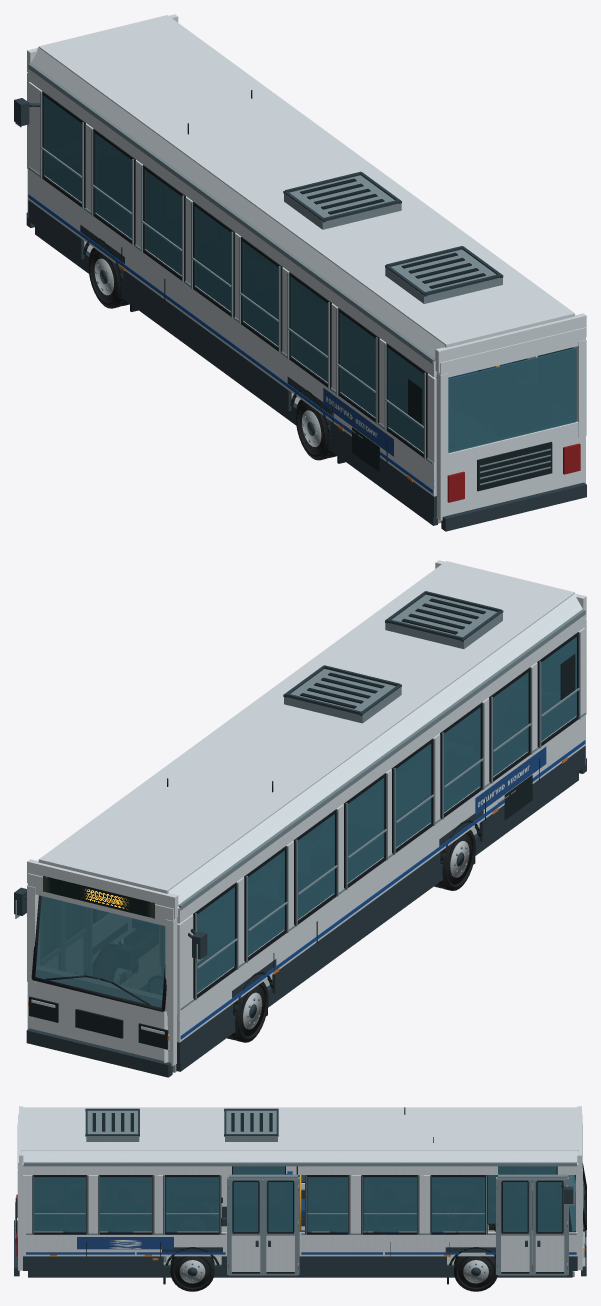
3 views of the same model, one above another, from view 1: azimuth 30°, elevation 25°; view 2: azimuth 150°, elevation 25°; view 3: azimuth 270°, elevation 25° (orthographic). The views are drawn at different scales.
Visible parts, largest first — view 1: VIS_Roof_Shell_body_region, VIS_Side_Window_Glazing_tinted_glass, VIS_Body_Exterior_Panels_body_region, VIS_Front_And_Rear_Structure_body_region, VIS_Rear_Glazing_tinted_glass, VIS_Lower_Skirt_lower_steel, VIS_Window_Seals_gasket, VIS_Rooftop_AC_Shell_aluminium, VIS_Window_Mullions_aluminium, VIS_Inner_Kick_Sill_lower_steel, VIS_Continuous_Roof_Cant_aluminium, VIS_Rear_Bumper_lower_steel (+9 smaller); view 2: VIS_Roof_Shell_body_region, VIS_Side_Window_Glazing_tinted_glass, VIS_Body_Exterior_Panels_body_region, VIS_Front_Windshield_windshield, VIS_Front_And_Rear_Structure_body_region, VIS_Lower_Skirt_lower_steel, VIS_Window_Seals_gasket, VIS_Rooftop_AC_Shell_aluminium, VIS_Window_Mullions_aluminium, VIS_Inner_Kick_Sill_lower_steel, VIS_Continuous_Roof_Cant_aluminium, VIS_Front_Bumper_lower_steel (+12 smaller); view 3: VIS_Roof_Shell_body_region, VIS_Side_Window_Glazing_tinted_glass, VIS_Body_Exterior_Panels_body_region, VIS_Lower_Skirt_lower_steel, VIS_Window_Seals_gasket, VIS_Inner_Kick_Sill_lower_steel, VIS_Continuous_Roof_Cant_aluminium, VIS_Rooftop_AC_Shell_aluminium, VIS_Window_Mullions_aluminium, VIS_Door_Jambs_aluminium, VIS_Front_A_VIS_Door_Blue_Glass_tinted_glass, VIS_Front_B_VIS_Door_Blue_Glass_tinted_glass (+30 smaller).
Part boxes in pixels (bbox=[...]): VIS_Roof_Shell_body_region: bbox=[27, 14, 586, 372]; VIS_Side_Window_Glazing_tinted_glass: bbox=[44, 96, 573, 452]; VIS_Body_Exterior_Panels_body_region: bbox=[28, 69, 537, 496]; VIS_Front_And_Rear_Structure_body_region: bbox=[27, 72, 586, 520]; VIS_Rear_Glazing_tinted_glass: bbox=[448, 348, 576, 453]; VIS_Lower_Skirt_lower_steel: bbox=[28, 200, 436, 517]; VIS_Window_Seals_gasket: bbox=[42, 91, 427, 458]; VIS_Rooftop_AC_Shell_aluminium: bbox=[284, 175, 502, 303]; VIS_Window_Mullions_aluminium: bbox=[40, 91, 425, 459]; VIS_Inner_Kick_Sill_lower_steel: bbox=[35, 226, 437, 525]; VIS_Continuous_Roof_Cant_aluminium: bbox=[28, 63, 435, 364]; VIS_Rear_Bumper_lower_steel: bbox=[441, 482, 586, 531]; VIS_Roof_Shell_body_region: bbox=[27, 560, 586, 918]; VIS_Side_Window_Glazing_tinted_glass: bbox=[197, 636, 576, 993]; VIS_Body_Exterior_Panels_body_region: bbox=[177, 615, 585, 1042]; VIS_Front_Windshield_windshield: bbox=[35, 896, 165, 1007]; VIS_Front_And_Rear_Structure_body_region: bbox=[27, 618, 586, 1065]; VIS_Lower_Skirt_lower_steel: bbox=[177, 746, 585, 1063]; VIS_Window_Seals_gasket: bbox=[193, 632, 578, 999]; VIS_Rooftop_AC_Shell_aluminium: bbox=[284, 594, 502, 723]; VIS_Window_Mullions_aluminium: bbox=[195, 632, 580, 999]; VIS_Inner_Kick_Sill_lower_steel: bbox=[176, 772, 578, 1071]; VIS_Continuous_Roof_Cant_aluminium: bbox=[178, 609, 585, 910]; VIS_Front_Bumper_lower_steel: bbox=[26, 1028, 172, 1077]; VIS_Roof_Shell_body_region: bbox=[19, 1106, 581, 1170]; VIS_Side_Window_Glazing_tinted_glass: bbox=[34, 1166, 556, 1231]; VIS_Body_Exterior_Panels_body_region: bbox=[23, 1164, 577, 1256]; VIS_Lower_Skirt_lower_steel: bbox=[23, 1197, 577, 1270]; VIS_Window_Seals_gasket: bbox=[32, 1166, 557, 1234]; VIS_Inner_Kick_Sill_lower_steel: bbox=[28, 1217, 572, 1277]; VIS_Continuous_Roof_Cant_aluminium: bbox=[23, 1162, 576, 1166]; VIS_Rooftop_AC_Shell_aluminium: bbox=[86, 1110, 277, 1141]; VIS_Window_Mullions_aluminium: bbox=[32, 1175, 486, 1234]; VIS_Door_Jambs_aluminium: bbox=[227, 1174, 568, 1275]; VIS_Front_A_VIS_Door_Blue_Glass_tinted_glass: bbox=[535, 1182, 563, 1232]; VIS_Front_B_VIS_Door_Blue_Glass_tinted_glass: bbox=[501, 1182, 529, 1232].
Bounding box in the file's own units: 3.1 × 3.39 × 12.07.
20 materials, 20 textured.
